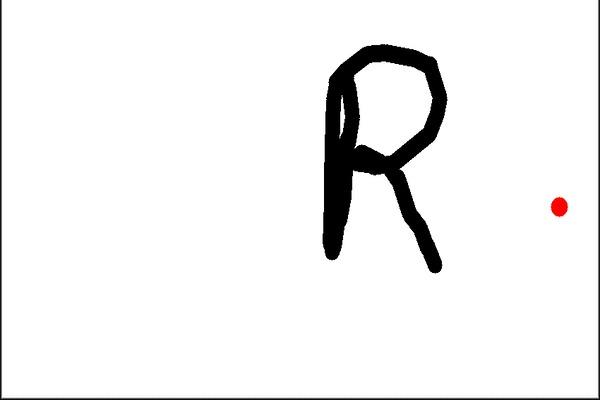R: (310, 26, 448, 283)
